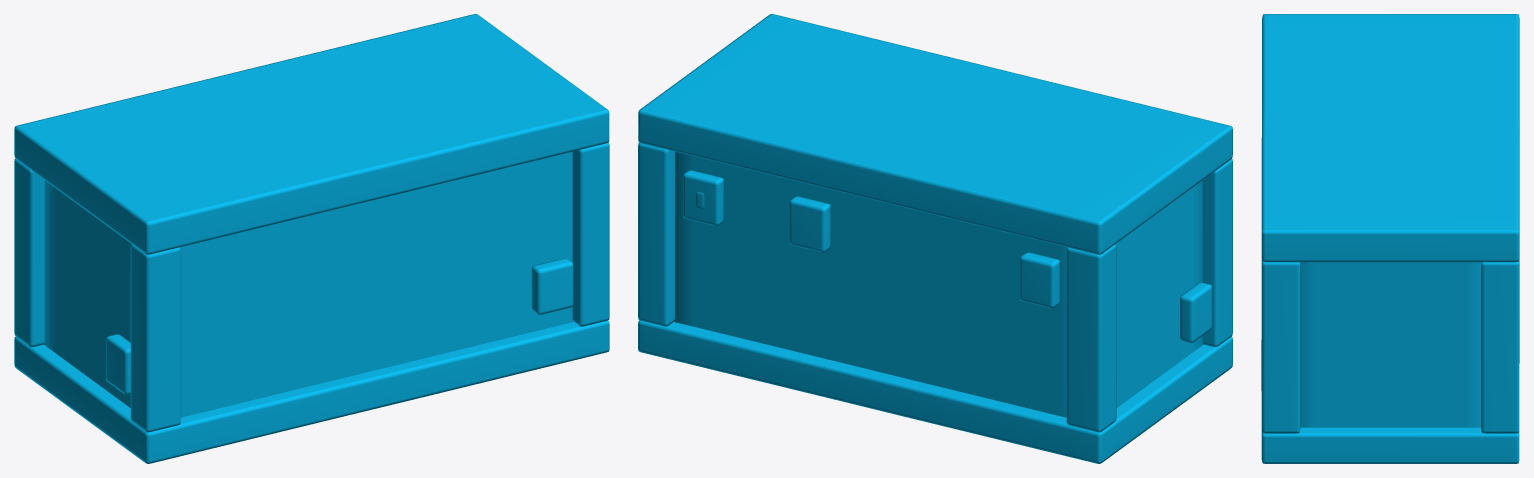
File: SM_Clay_Body_07.fbx
The picture shows the model from 3 angles, left to right: view 1: azimuth 30°, elevation 25°; view 2: azimuth 150°, elevation 25°; view 3: azimuth 270°, elevation 25°; orthographic projection. The views are drawn at different scales.
Visible parts, largest first — view 1: SM_Clay_Body_07; view 2: SM_Clay_Body_07; view 3: SM_Clay_Body_07.
Part boxes in pixels (bbox=[...]): SM_Clay_Body_07: bbox=[14, 14, 609, 463]; SM_Clay_Body_07: bbox=[638, 14, 1232, 463]; SM_Clay_Body_07: bbox=[1261, 14, 1519, 463].
Bounding box in the file's own units: 2 × 0.9984 × 1.
